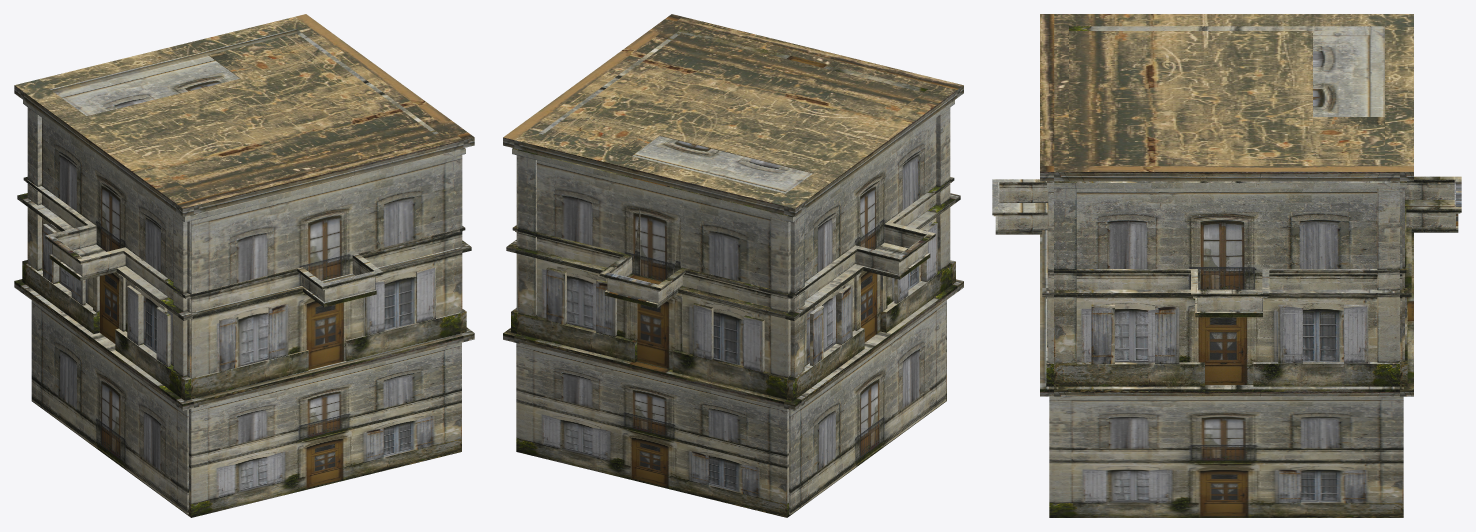
Rendered from BagBuilding20_70.fbx.
The picture shows the model from 3 angles, left to right: view 1: azimuth 30°, elevation 25°; view 2: azimuth 150°, elevation 25°; view 3: azimuth 270°, elevation 25°; orthographic projection. The views are drawn at different scales.
Parts seen in each view (by area): view 1: main70, box70, roof70, boxb70; view 2: main70, roof70, box70, boxb70; view 3: box70, roof70, main70, boxb70.
Boxes of the visible parts, box(x1,y1,x2,y2) form: main70: box(14, 85, 474, 514); box70: box(50, 29, 462, 377); roof70: box(14, 14, 473, 208); boxb70: box(32, 342, 461, 517); main70: box(503, 85, 963, 514); roof70: box(503, 14, 963, 208); box70: box(517, 29, 927, 372); boxb70: box(516, 300, 946, 517); box70: box(1048, 26, 1402, 384); roof70: box(1040, 14, 1413, 171); main70: box(992, 172, 1461, 396); boxb70: box(1049, 396, 1403, 517).
Size of the model in its own units: 22.81 by 18.79 by 22.81.
